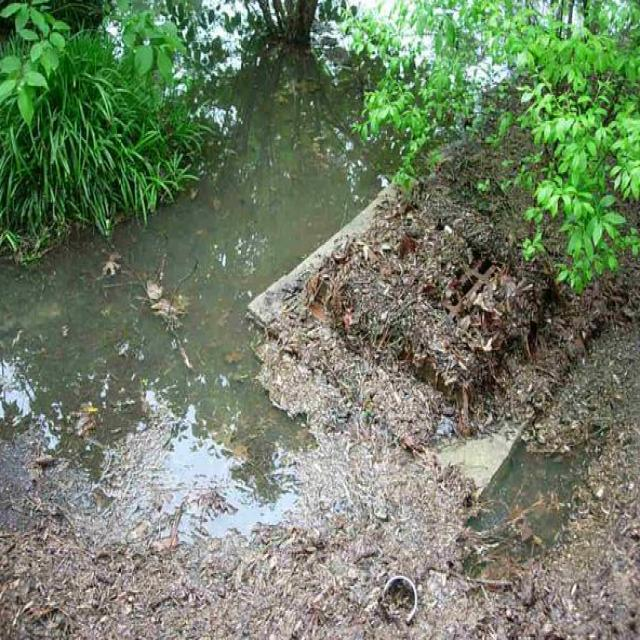Breeding Place: (0, 0, 603, 560)
